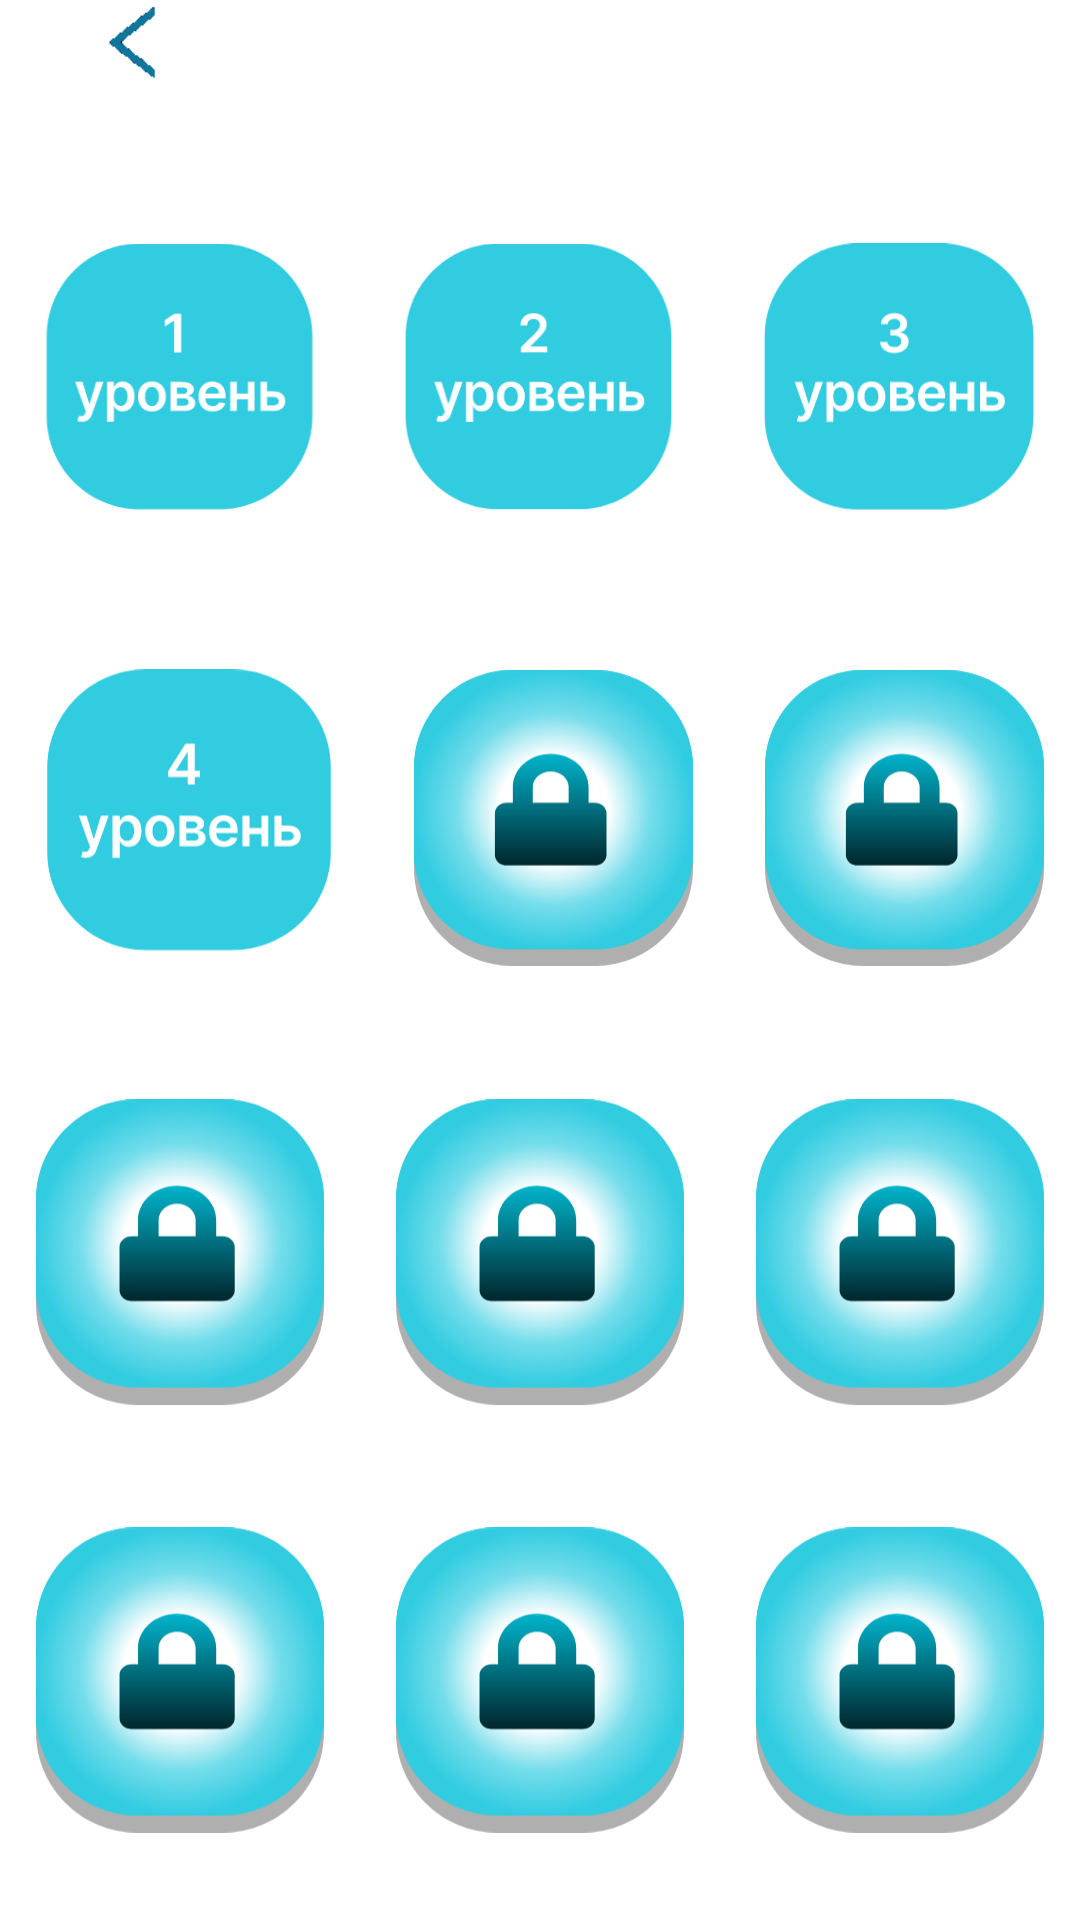

Where icons sit on this 1080 × 1920 app screen, as (x1, y1, x2, y2):
back: (109, 7, 155, 78)
blocked level: (414, 670, 693, 966), (765, 670, 1044, 966), (36, 1099, 324, 1405), (396, 1099, 684, 1405), (756, 1099, 1044, 1405), (36, 1527, 324, 1833), (396, 1527, 684, 1833), (756, 1527, 1044, 1833)
